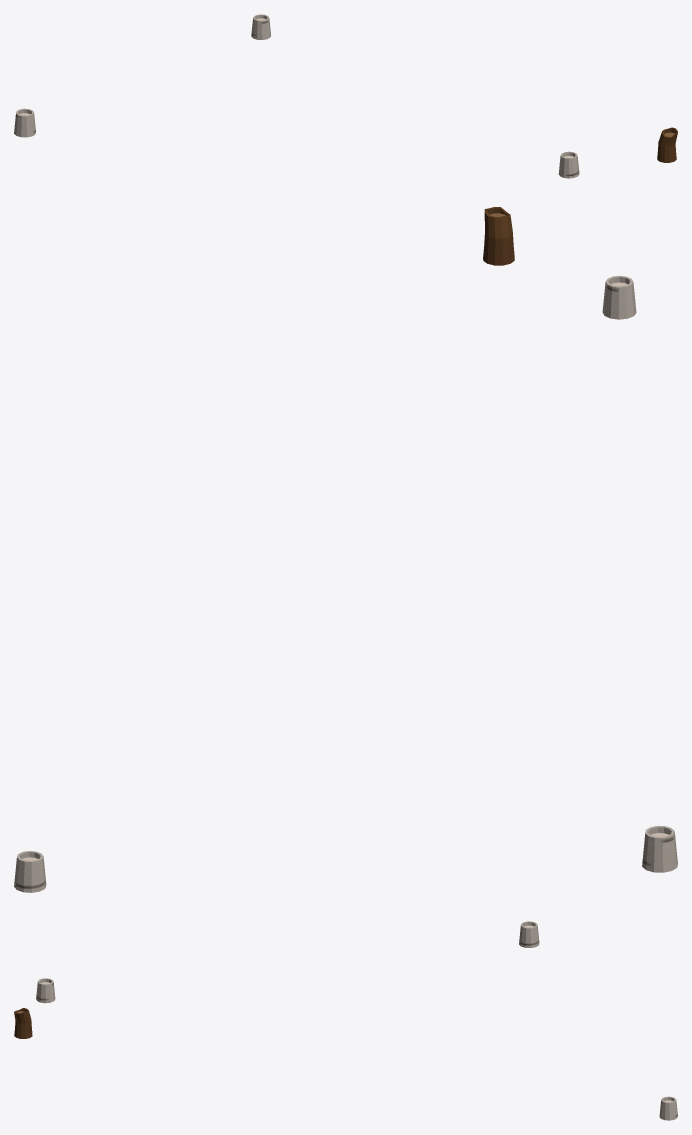
File: Trunks2.gltf
The picture shows the model from 3 angles, top to bottom: view 1: azimuth 30°, elevation 25°; view 2: azimuth 150°, elevation 25°; view 3: azimuth 270°, elevation 25°; orthographic projection. The views are drawn at different scales.
Parts seen in each view (by area): view 1: Trunk3 - copy.010, Trunk2 - copy.014, Trunk2 - copy.015, Trunk2 - copy.018; view 2: Trunk3 - copy.010, Trunk2 - copy.014, Trunk2 - copy.015, Trunk2 - copy.018; view 3: Trunk3 - copy.010, Trunk2 - copy.014, Trunk2 - copy.015, Trunk2 - copy.018.
Boxes of the visible parts, x1,y1,x2,y2 form: Trunk3 - copy.010: (657, 127, 677, 162); Trunk2 - copy.014: (14, 108, 35, 137); Trunk2 - copy.015: (558, 151, 579, 178); Trunk2 - copy.018: (251, 14, 270, 39); Trunk3 - copy.010: (483, 207, 514, 265); Trunk2 - copy.014: (642, 826, 677, 872); Trunk2 - copy.015: (602, 275, 636, 319); Trunk2 - copy.018: (14, 851, 46, 892); Trunk3 - copy.010: (14, 1008, 32, 1038); Trunk2 - copy.014: (519, 921, 539, 947); Trunk2 - copy.015: (36, 978, 55, 1003); Trunk2 - copy.018: (659, 1096, 677, 1120).
Bounding box in the file's own units: 11.1 × 3.95 × 17.64.
Materials: 2 (2 with a texture image).
